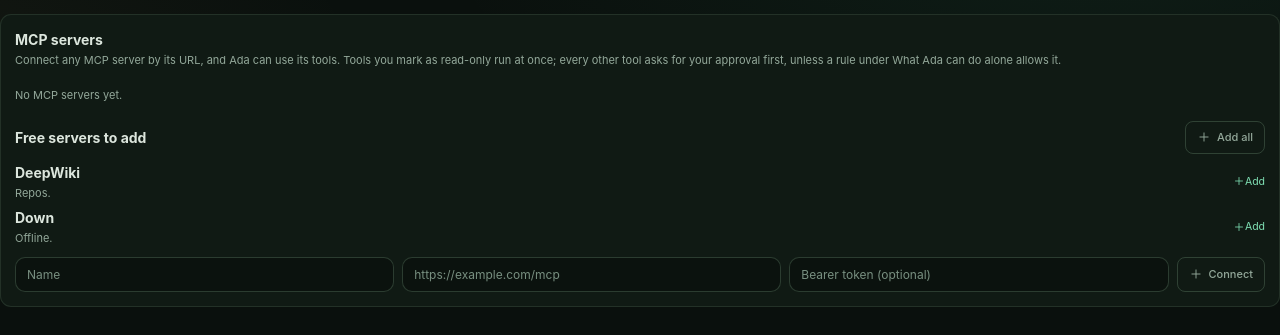
Test: MCPServersPanel › adds every suggested free server with one click and names the ones that fail
This screenshot has width=1280, height=335.
Click the button "Add all" at (1225, 137), box [1185, 121, 1265, 154]
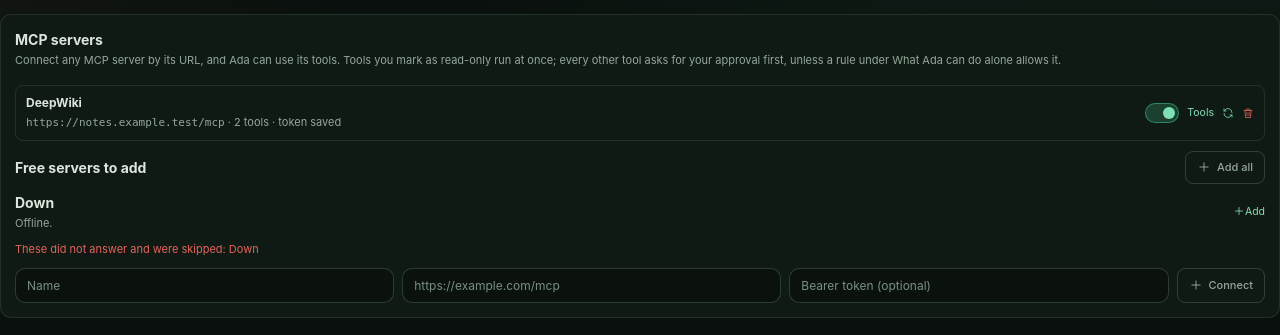
Result: the text "These did not answer and were skipped: Down" is shown at [15, 242, 259, 256]
